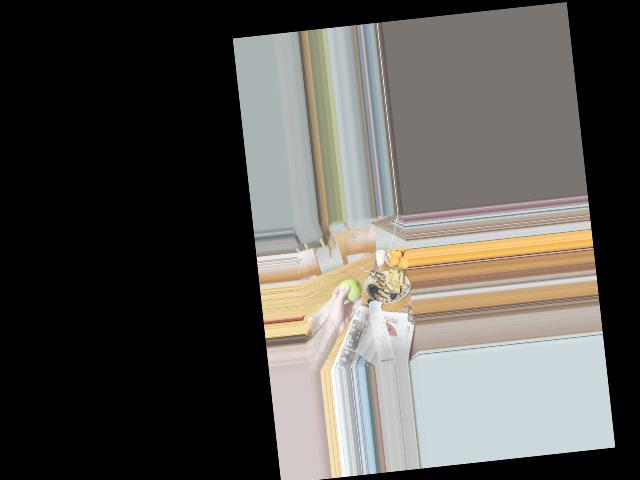apple: (339, 276, 364, 306)
